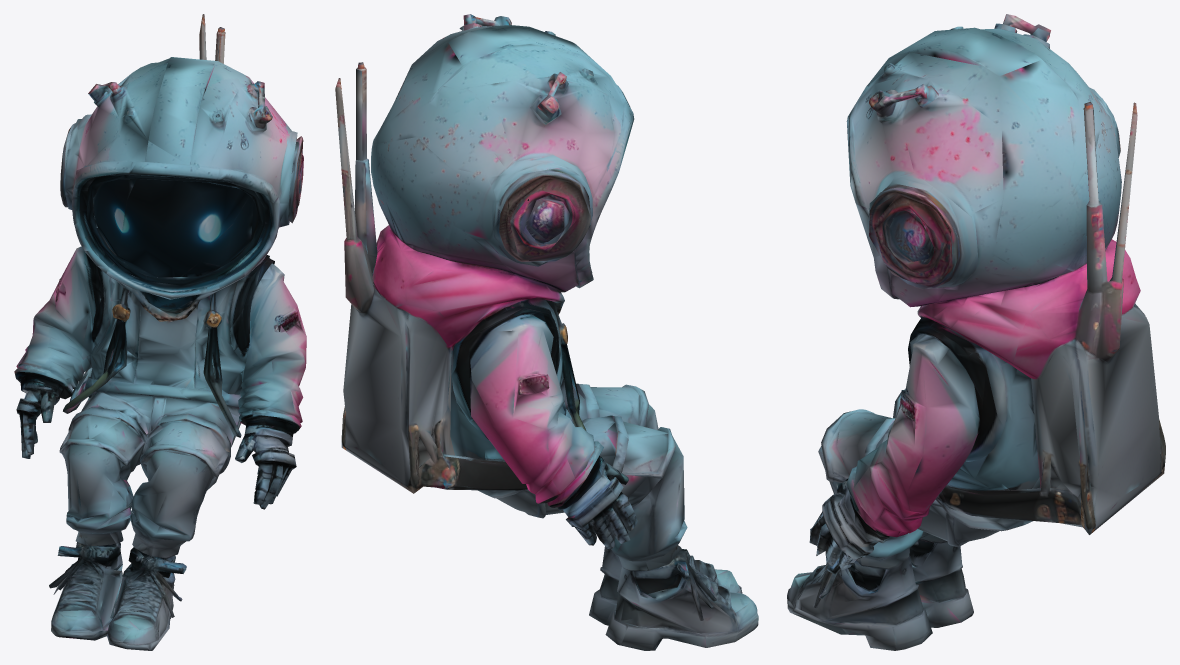
Rendered from laptop.glb.
The picture shows the model from 3 angles, left to right: view 1: azimuth 30°, elevation 25°; view 2: azimuth 150°, elevation 25°; view 3: azimuth 270°, elevation 25°; orthographic projection. The views are drawn at different scales.
Visible parts, largest first — view 1: texture_pbr_v128; view 2: texture_pbr_v128; view 3: texture_pbr_v128.
Boxes of the visible parts, x1,y1,x2,y2 form: texture_pbr_v128: (14,14,306,650); texture_pbr_v128: (335,14,758,650); texture_pbr_v128: (787,14,1165,650).
Size of the model in its own units: 0.5932 by 1.03 by 0.5493.
Materials: 1 (1 with a texture image).
